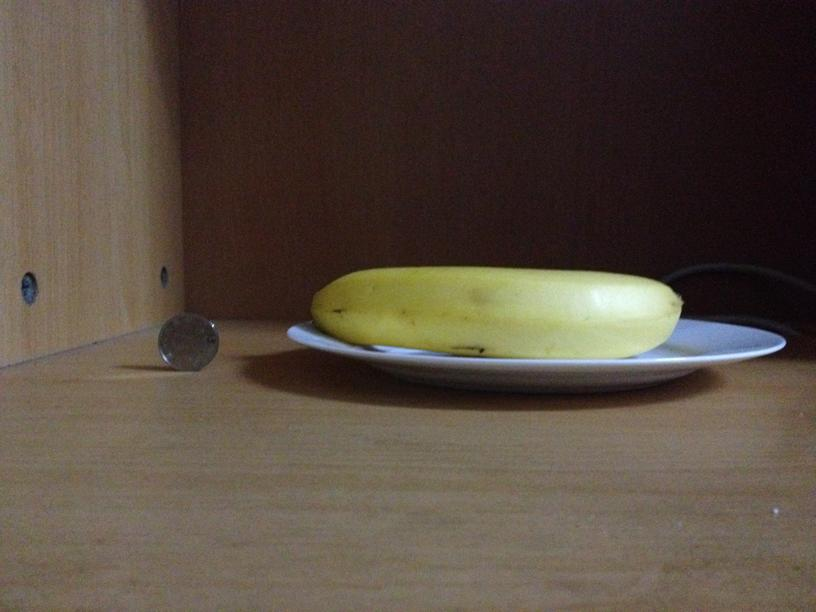banana: (315, 266, 681, 356)
coin: (156, 313, 219, 374)
